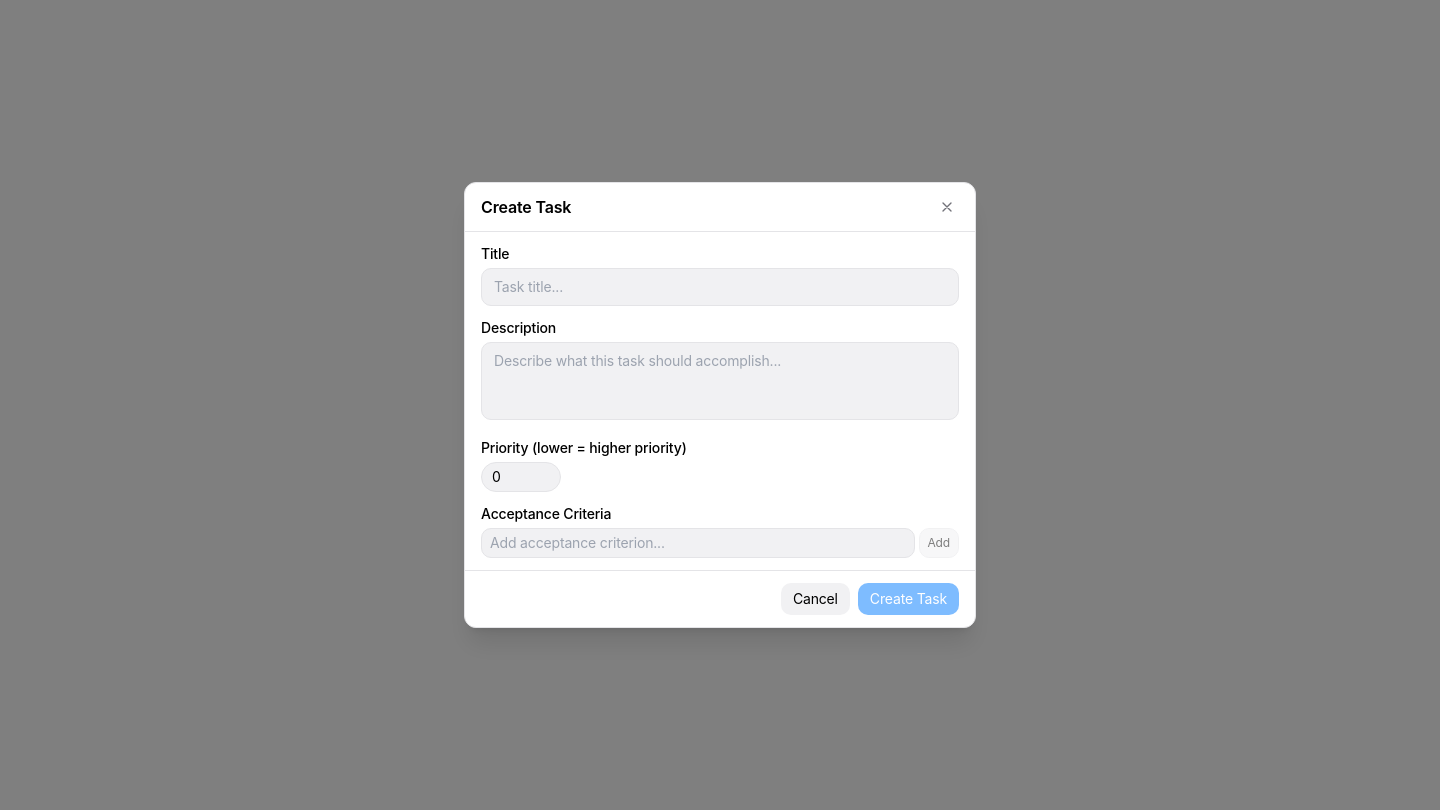
Test: CreateTaskDialog › removes acceptance criterion
Note: Add a criterion
In the field with placeholder "Add acceptance criterion...": (698,543) [481,528,914,558], type "Test pass"
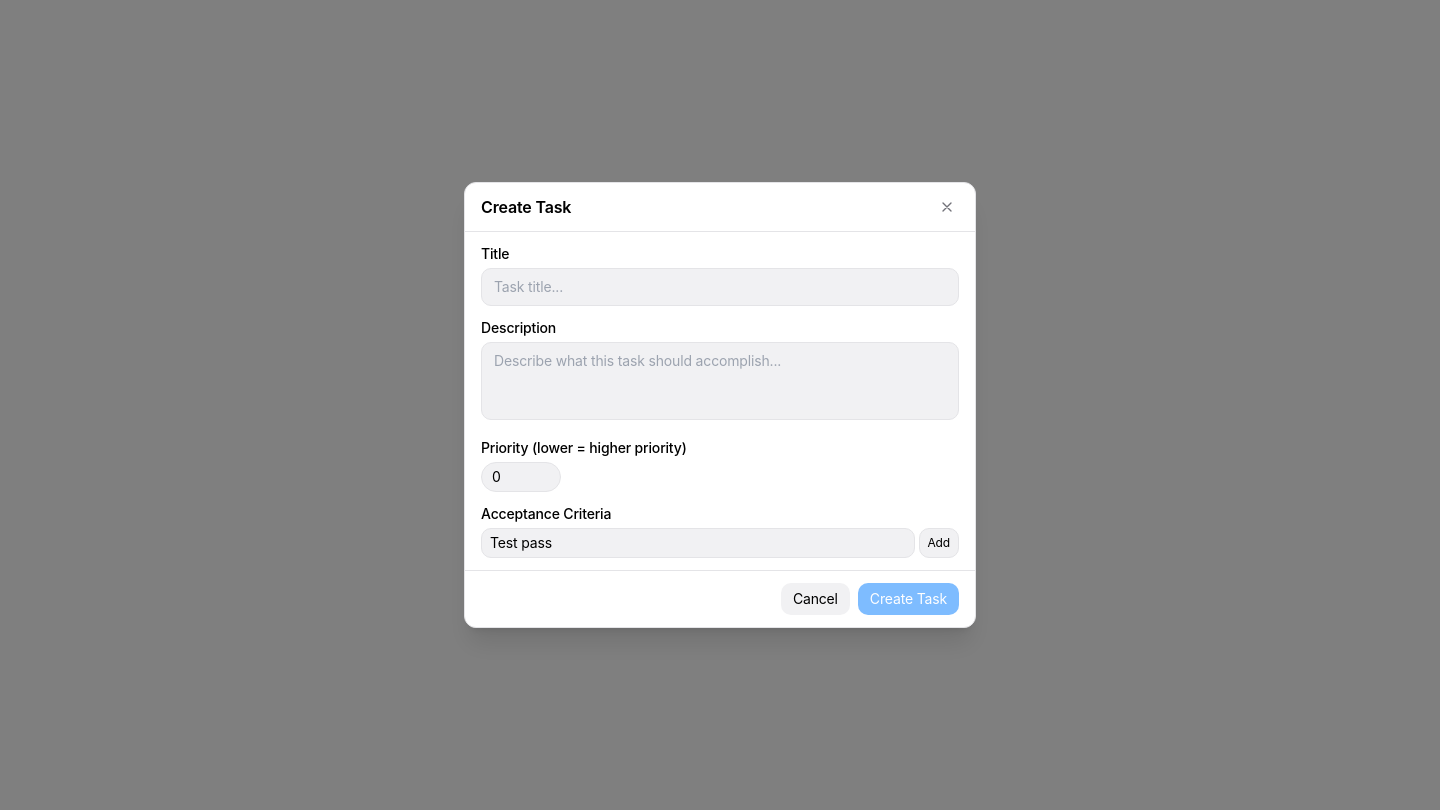
Click the button "Add": (939,543) [918,528,959,558]
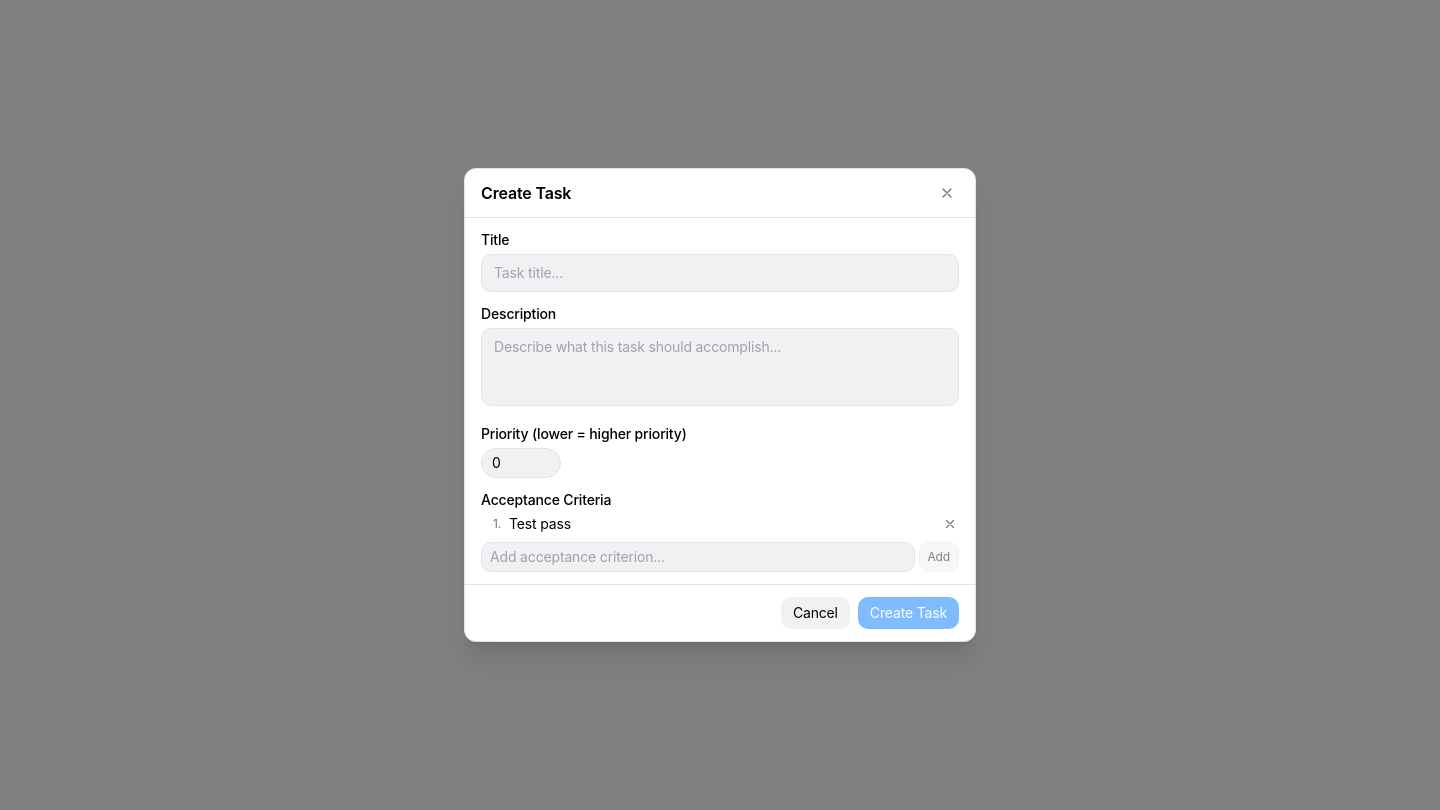
Check: the text "Test pass" is shown, box [509,515,571,532]
Click the button without text in the row of "Test pass": (950,524) [941,515,959,533]
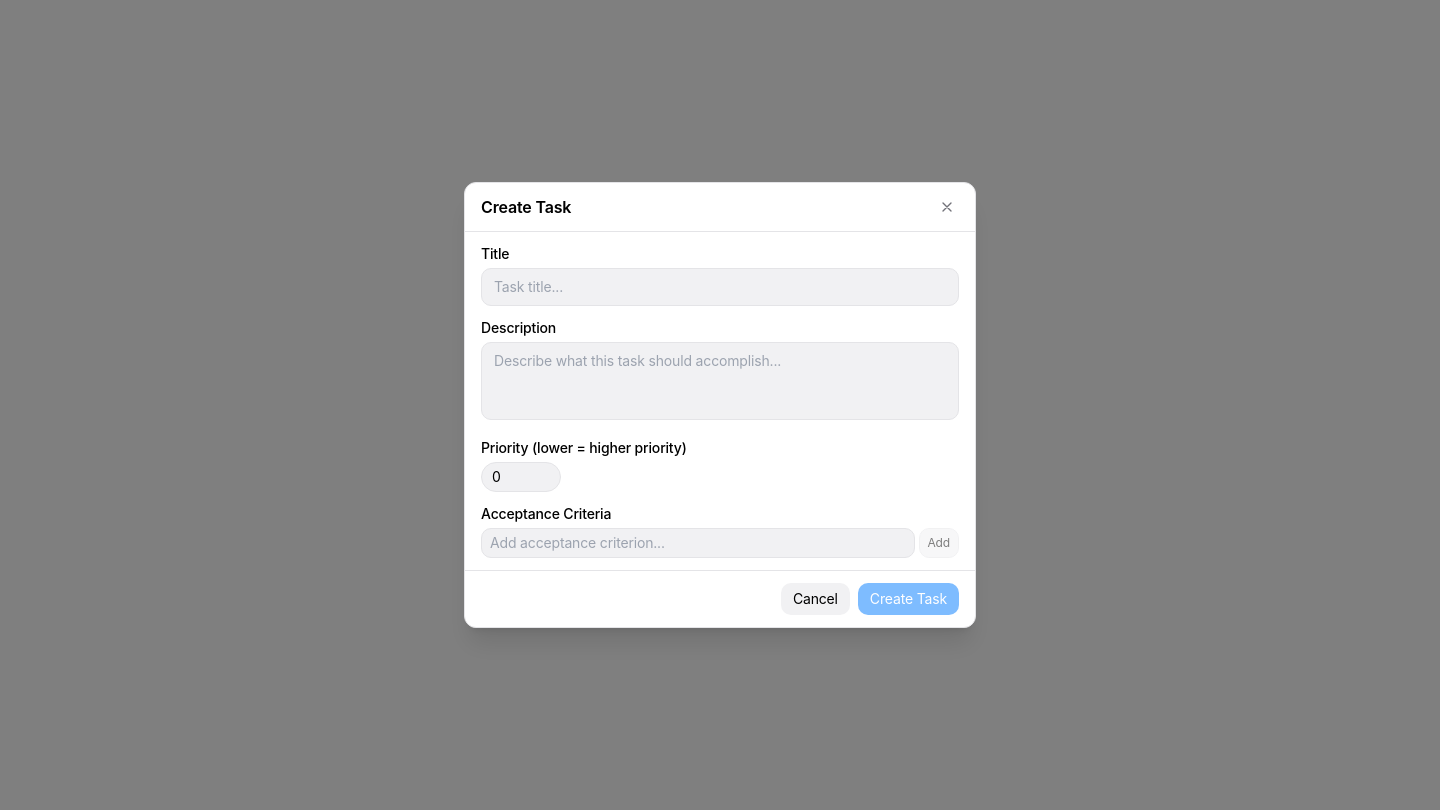
Check: the text "Test pass" is gone
